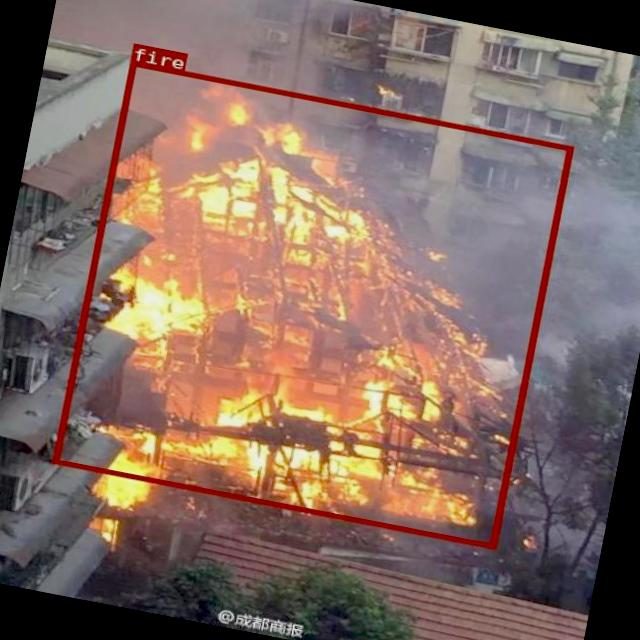fire: (51, 60, 574, 549)
